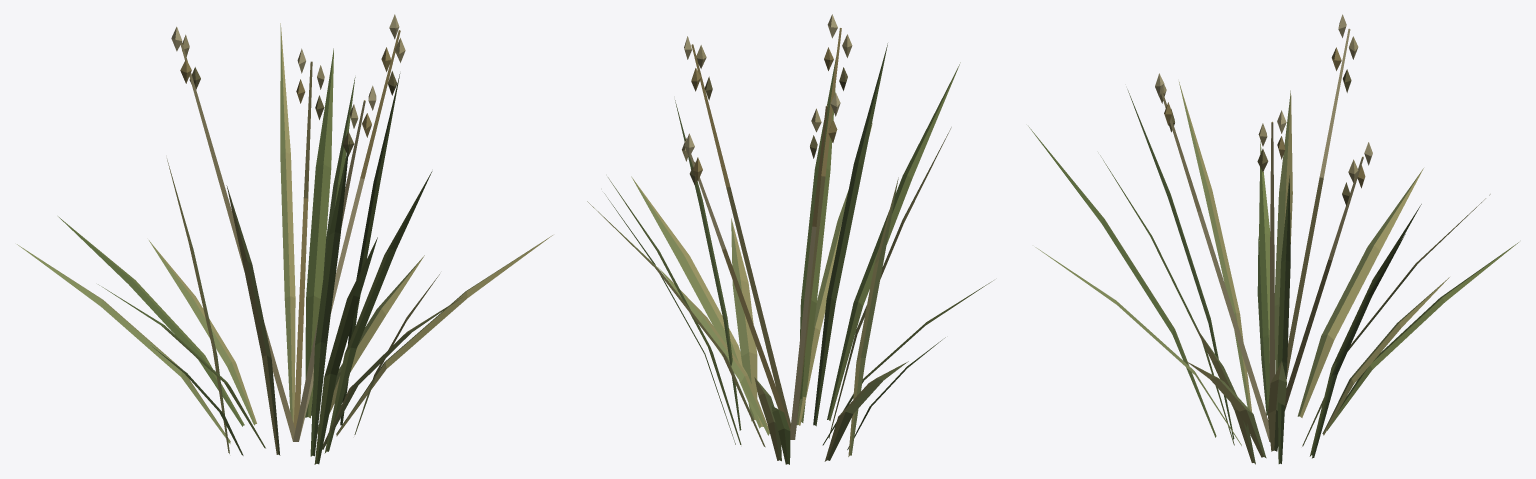
Rendered from meadow-grass.glb.
The picture shows the model from 3 angles, left to right: view 1: azimuth 30°, elevation 25°; view 2: azimuth 150°, elevation 25°; view 3: azimuth 270°, elevation 25°; orthographic projection. The views are drawn at different scales.
Visible parts, largest first — view 1: Curved meadow grass leaves, Fine stems and individual oat seeds; view 2: Curved meadow grass leaves, Fine stems and individual oat seeds; view 3: Curved meadow grass leaves, Fine stems and individual oat seeds.
Boxes of the visible parts, x1,y1,x2,y2 form: Curved meadow grass leaves: (17,23,552,464); Fine stems and individual oat seeds: (171,14,405,441); Curved meadow grass leaves: (587,43,993,464); Fine stems and individual oat seeds: (682,14,852,439); Curved meadow grass leaves: (1028,82,1518,464); Fine stems and individual oat seeds: (1155,14,1372,441).
Size of the model in its own units: 0.4466 by 0.4133 by 0.4771.
